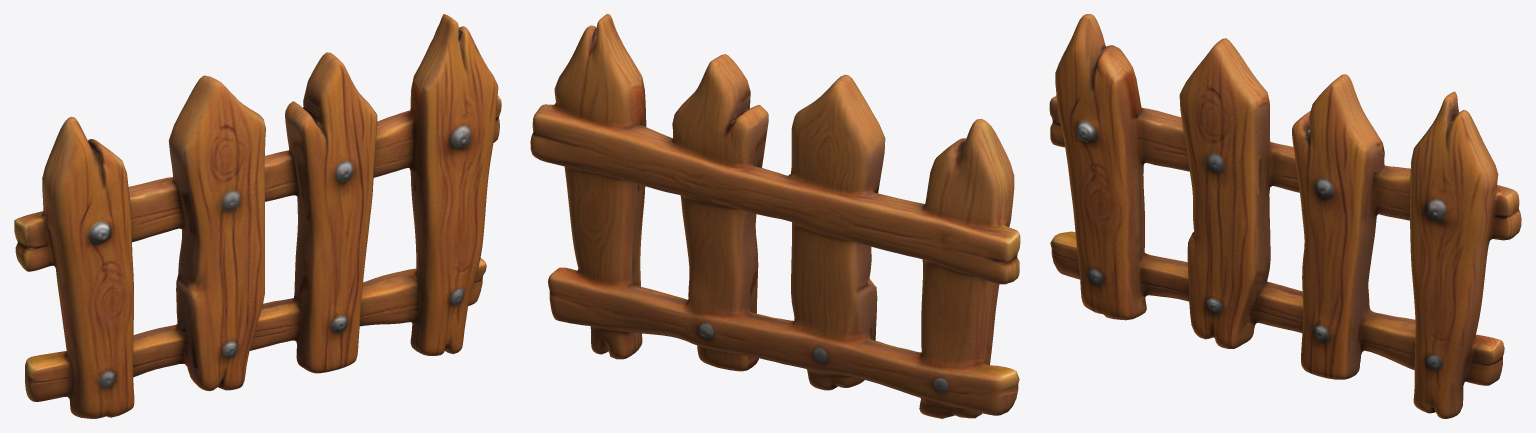
The model's file is wood_fence.glb.
3 views of the same model, side by side, from view 1: azimuth 30°, elevation 25°; view 2: azimuth 150°, elevation 25°; view 3: azimuth 330°, elevation 25° (orthographic). The views are drawn at different scales.
Bounding box in the file's own units: 1.99 × 1.32 × 0.2599.
Materials: 1 (1 with a texture image).
